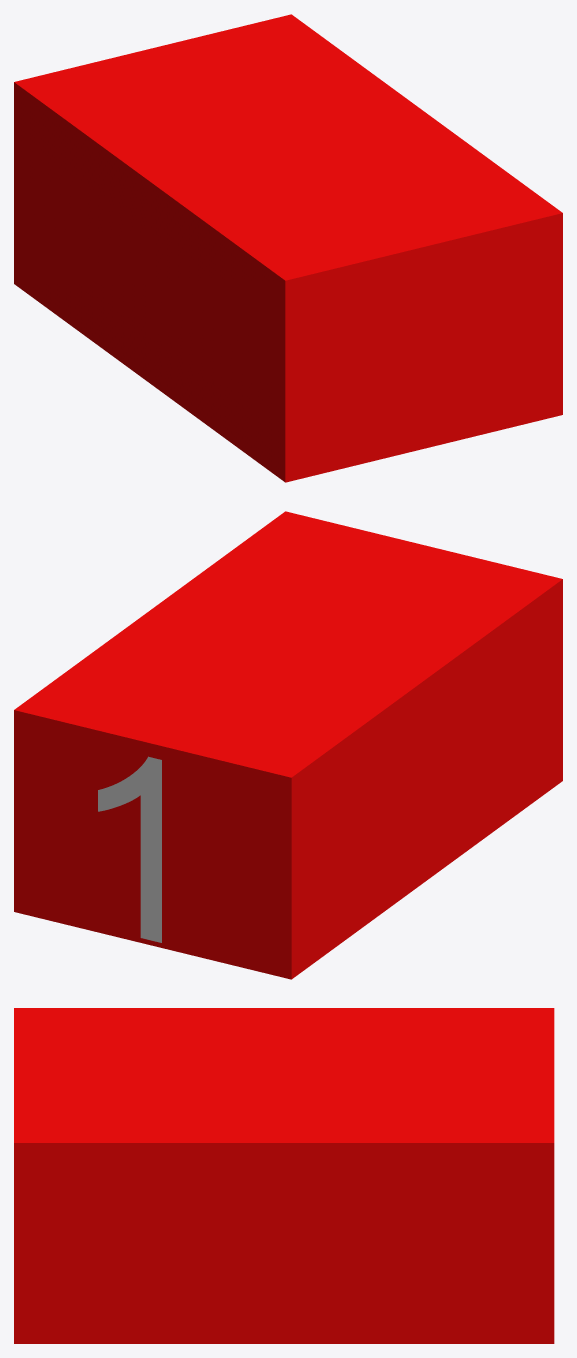
The model's file is car01.glb.
The picture shows the model from 3 angles, top to bottom: view 1: azimuth 30°, elevation 25°; view 2: azimuth 150°, elevation 25°; view 3: azimuth 270°, elevation 25°; orthographic projection.
Visible parts, largest first — view 1: Box001; view 2: Box001, 1; view 3: Box001.
Boxes of the visible parts, bbox=[...] form: Box001: bbox=[14, 14, 562, 482]; Box001: bbox=[14, 511, 562, 979]; 1: bbox=[98, 756, 161, 942]; Box001: bbox=[14, 1008, 554, 1343].
Bounding box in the file's own units: 17.4 × 12.1 × 29.97.
